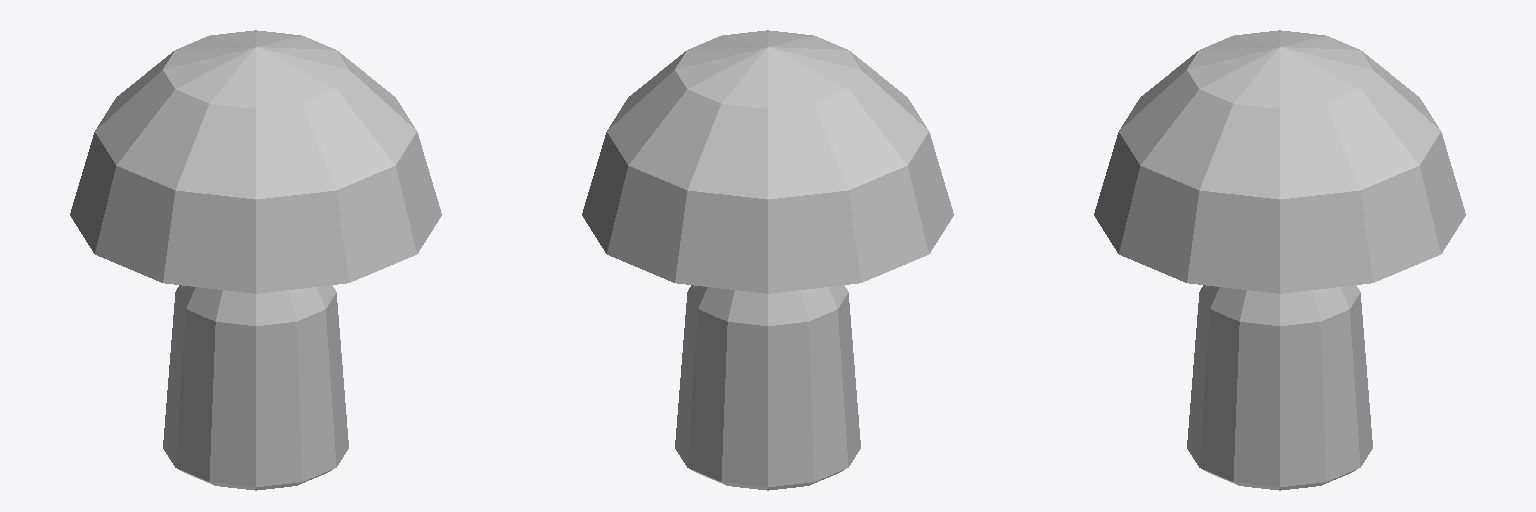
File: mushroomg4.obj
3 renders of one model, left to right at view 1: azimuth 30°, elevation 25°; view 2: azimuth 150°, elevation 25°; view 3: azimuth 270°, elevation 25°, orthographic.
Parts seen in each view (by area): view 1: Sphere.002; view 2: Sphere.002; view 3: Sphere.002.
Part boxes in pixels (left/top/right/bottom): Sphere.002: left=70, top=30, right=441, bottom=490; Sphere.002: left=582, top=30, right=953, bottom=490; Sphere.002: left=1094, top=30, right=1465, bottom=490.
Size of the model in its own units: 0.4 by 0.4952 by 0.4.